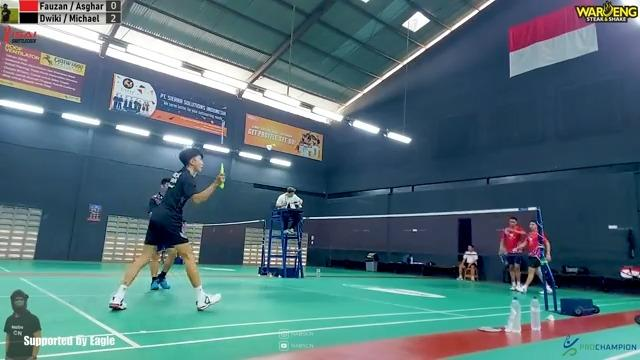Shuttlecock: (265, 142, 277, 152)
